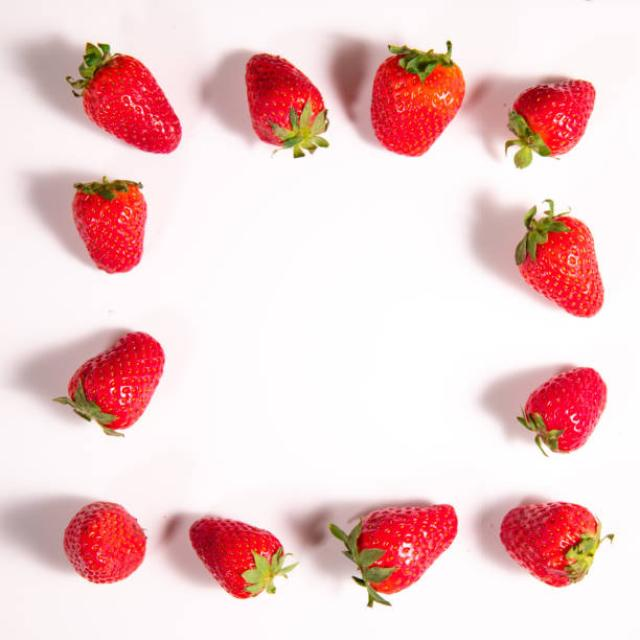Healthy Fruit: (81, 51, 184, 153), (370, 54, 466, 158), (67, 329, 165, 430), (356, 500, 456, 593), (519, 216, 604, 317), (502, 500, 596, 585), (191, 515, 282, 599), (246, 53, 326, 147), (527, 364, 609, 453), (72, 183, 147, 274), (67, 500, 149, 583), (514, 77, 596, 156)
